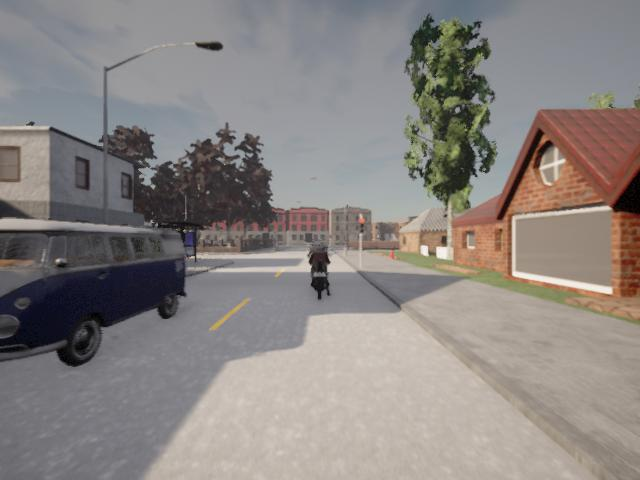5: (358, 217, 366, 232)
9: (0, 216, 189, 375)
motobike: (308, 243, 332, 291)
